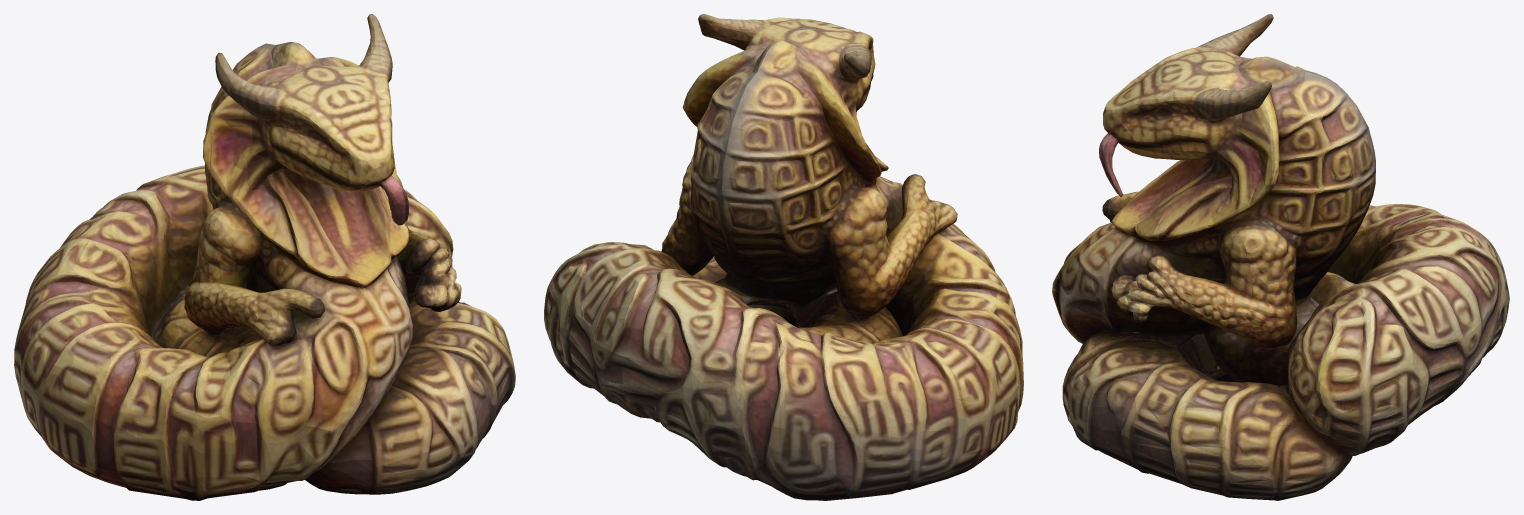
File: sandWyrmling.glb
3 renders of one model, left to right at view 1: azimuth 30°, elevation 25°; view 2: azimuth 150°, elevation 25°; view 3: azimuth 270°, elevation 25°, orthographic. The views are drawn at different scales.
Visible parts, largest first — view 1: world; view 2: world; view 3: world.
Boxes of the visible parts, x1,y1,x2,y2 form: world: (14,14,515,500); world: (544,14,1023,500); world: (1052,14,1509,500).
Bounding box in the file's own units: 0.9243 × 0.812 × 0.8869.
Materials: 1 (1 with a texture image).
